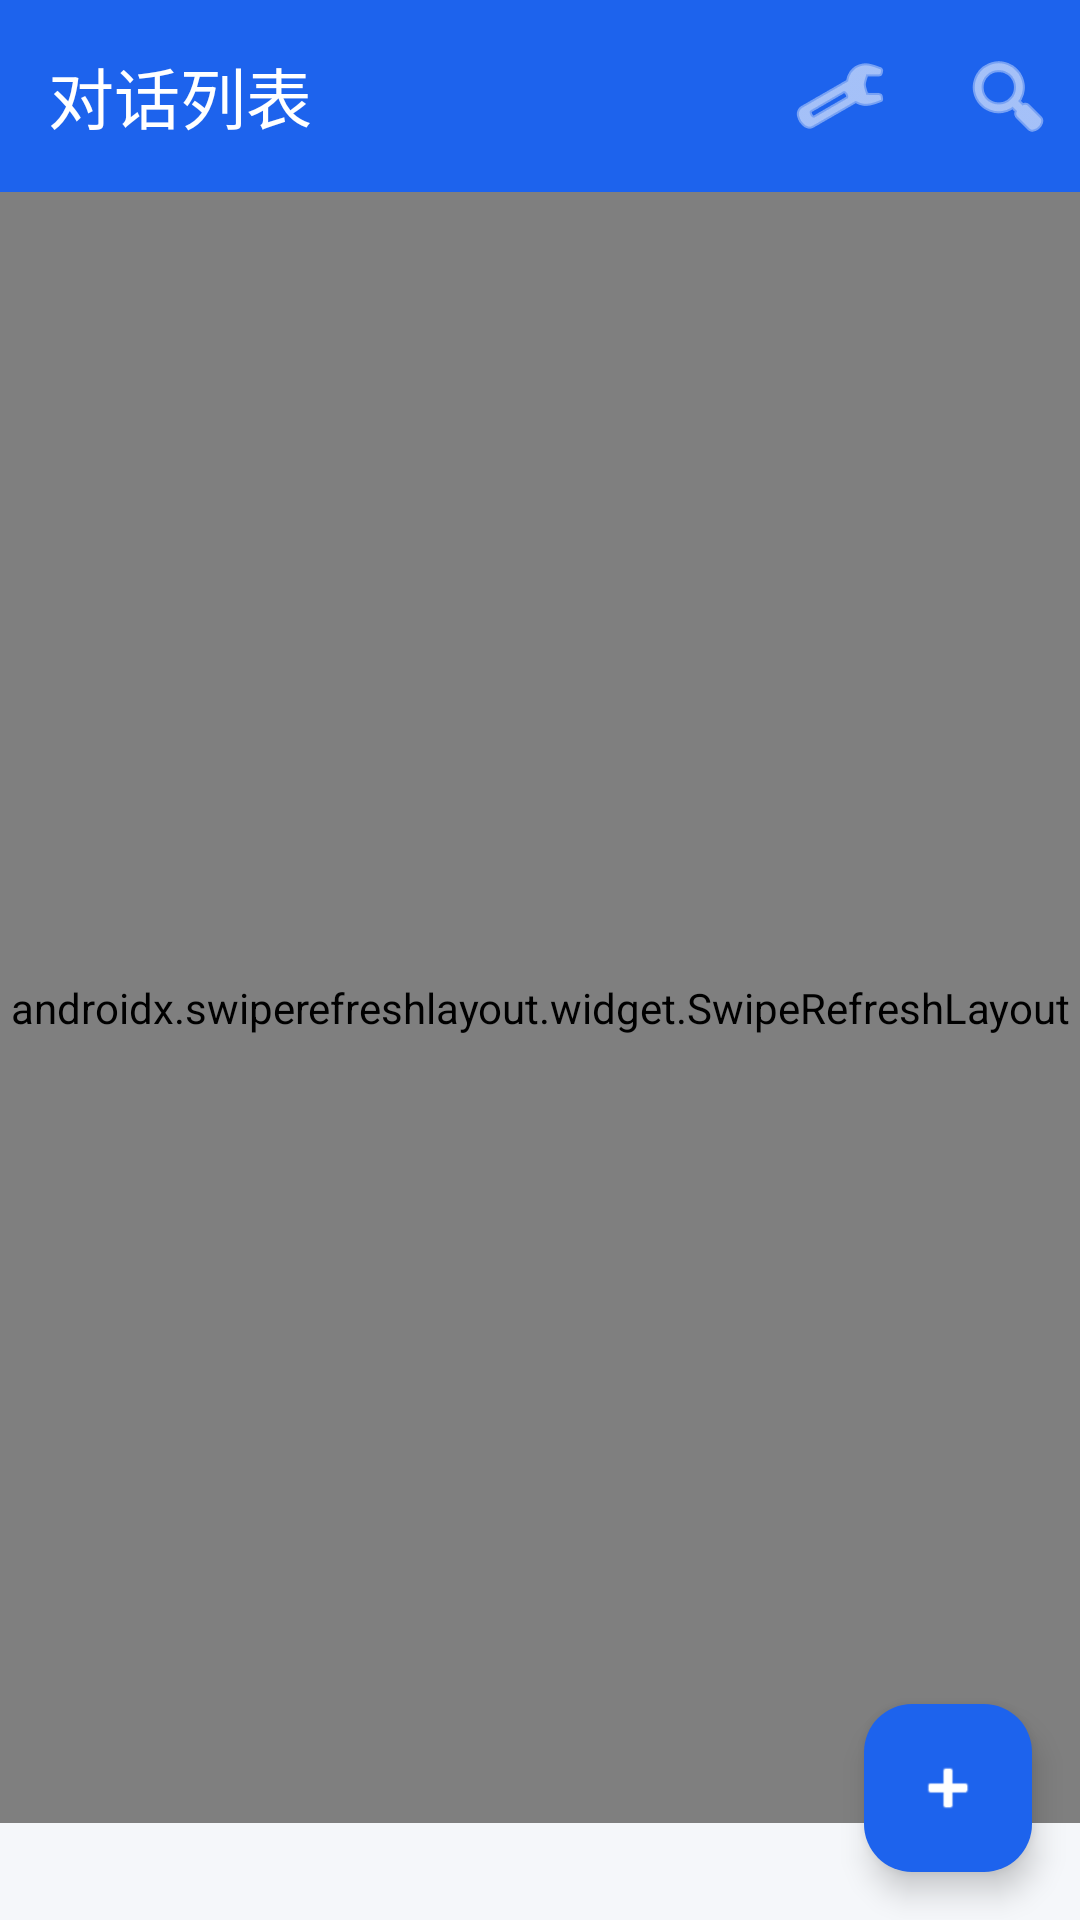

Where to tap for icons on this 1080w x 1920h app screen, as (x=x, y=y):
搜索: (x=1008, y=96)
设置: (x=840, y=96)
